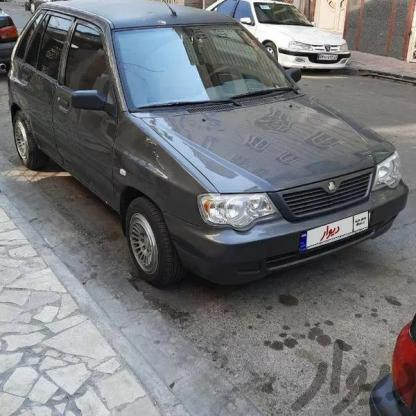Car: (0, 10, 416, 291), (167, 0, 362, 82)
